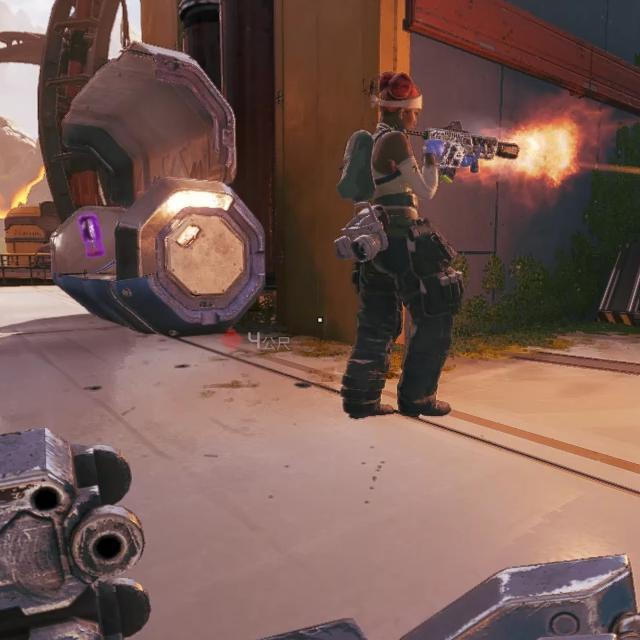avatar: (331, 72, 459, 422)
object: (512, 122, 580, 184)
